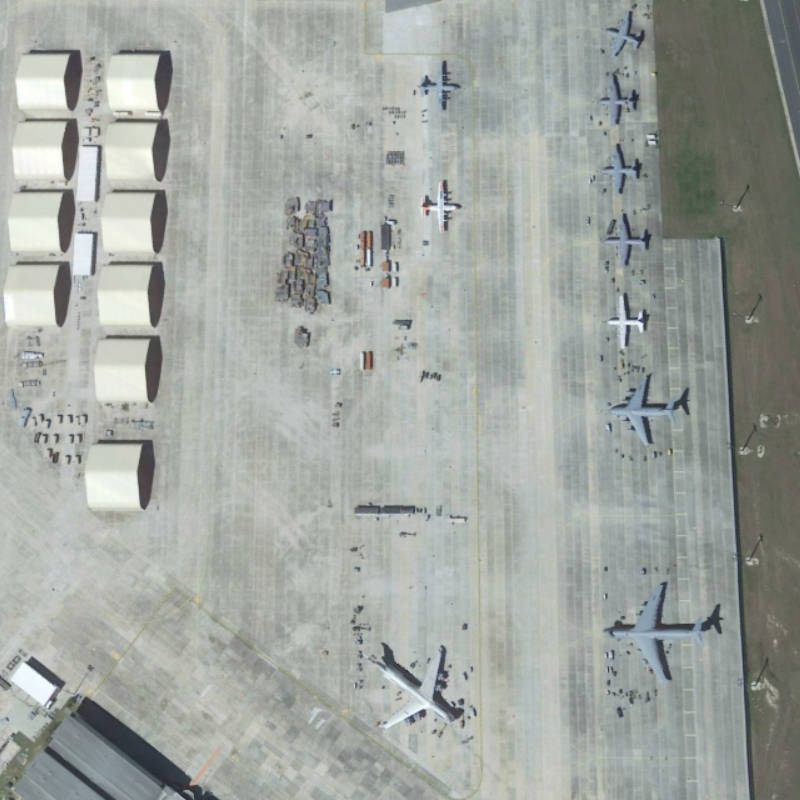A2: (600, 211, 653, 270), (417, 177, 467, 239), (603, 290, 649, 352), (415, 55, 463, 113), (596, 68, 639, 129), (600, 8, 648, 59), (599, 140, 643, 195)
A3: (605, 368, 683, 449)
A4: (600, 579, 714, 688), (362, 641, 458, 729)
